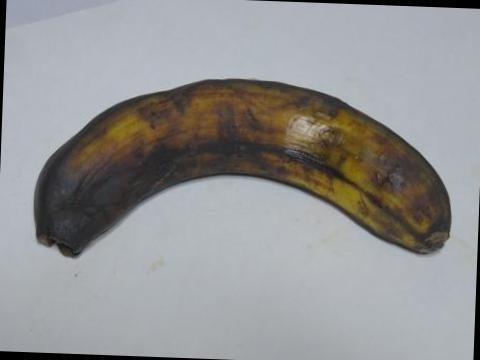overripe: (22, 63, 459, 292)
